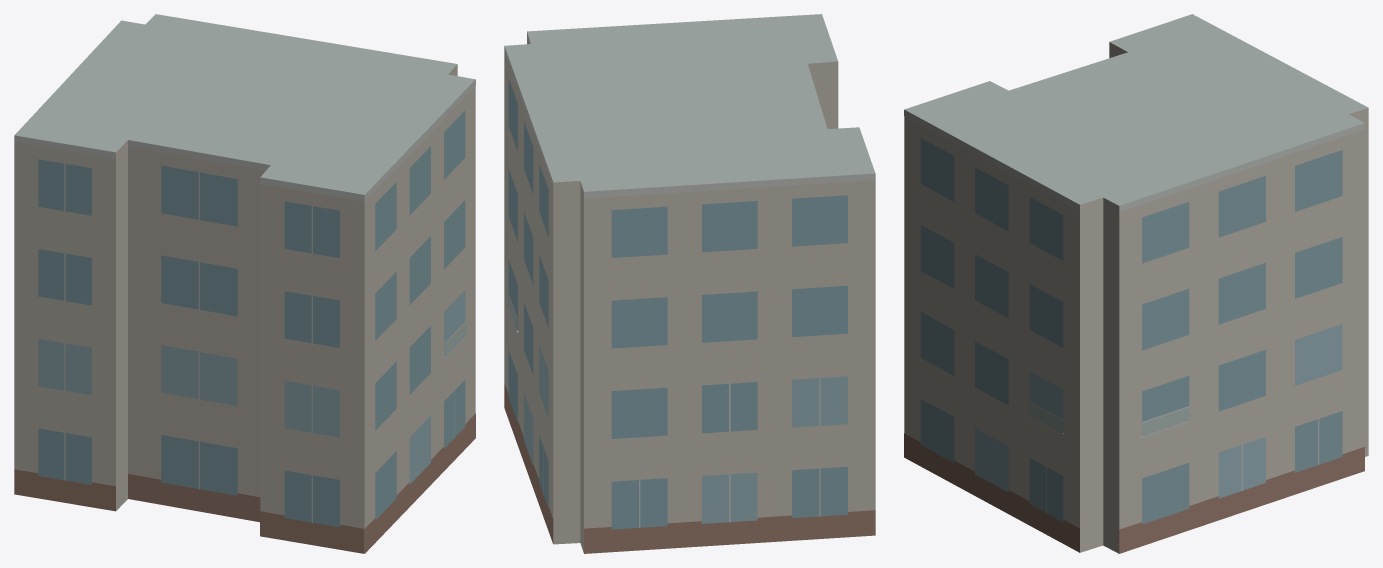
The model's file is survey-upis-32677260.glb.
3 renders of one model, left to right at view 1: azimuth 30°, elevation 25°; view 2: azimuth 150°, elevation 25°; view 3: azimuth 270°, elevation 25°, orthographic. The views are drawn at different scales.
Parts seen in each view (by area): view 1: survey-upis-32677260.tmp; view 2: survey-upis-32677260.tmp; view 3: survey-upis-32677260.tmp.
Boxes of the visible parts, box(x1,y1,x2,y2) form: survey-upis-32677260.tmp: box(14, 14, 475, 553); survey-upis-32677260.tmp: box(504, 14, 875, 553); survey-upis-32677260.tmp: box(904, 14, 1368, 553).
Bounding box in the file's own units: 15.62 × 13.2 × 15.98.
